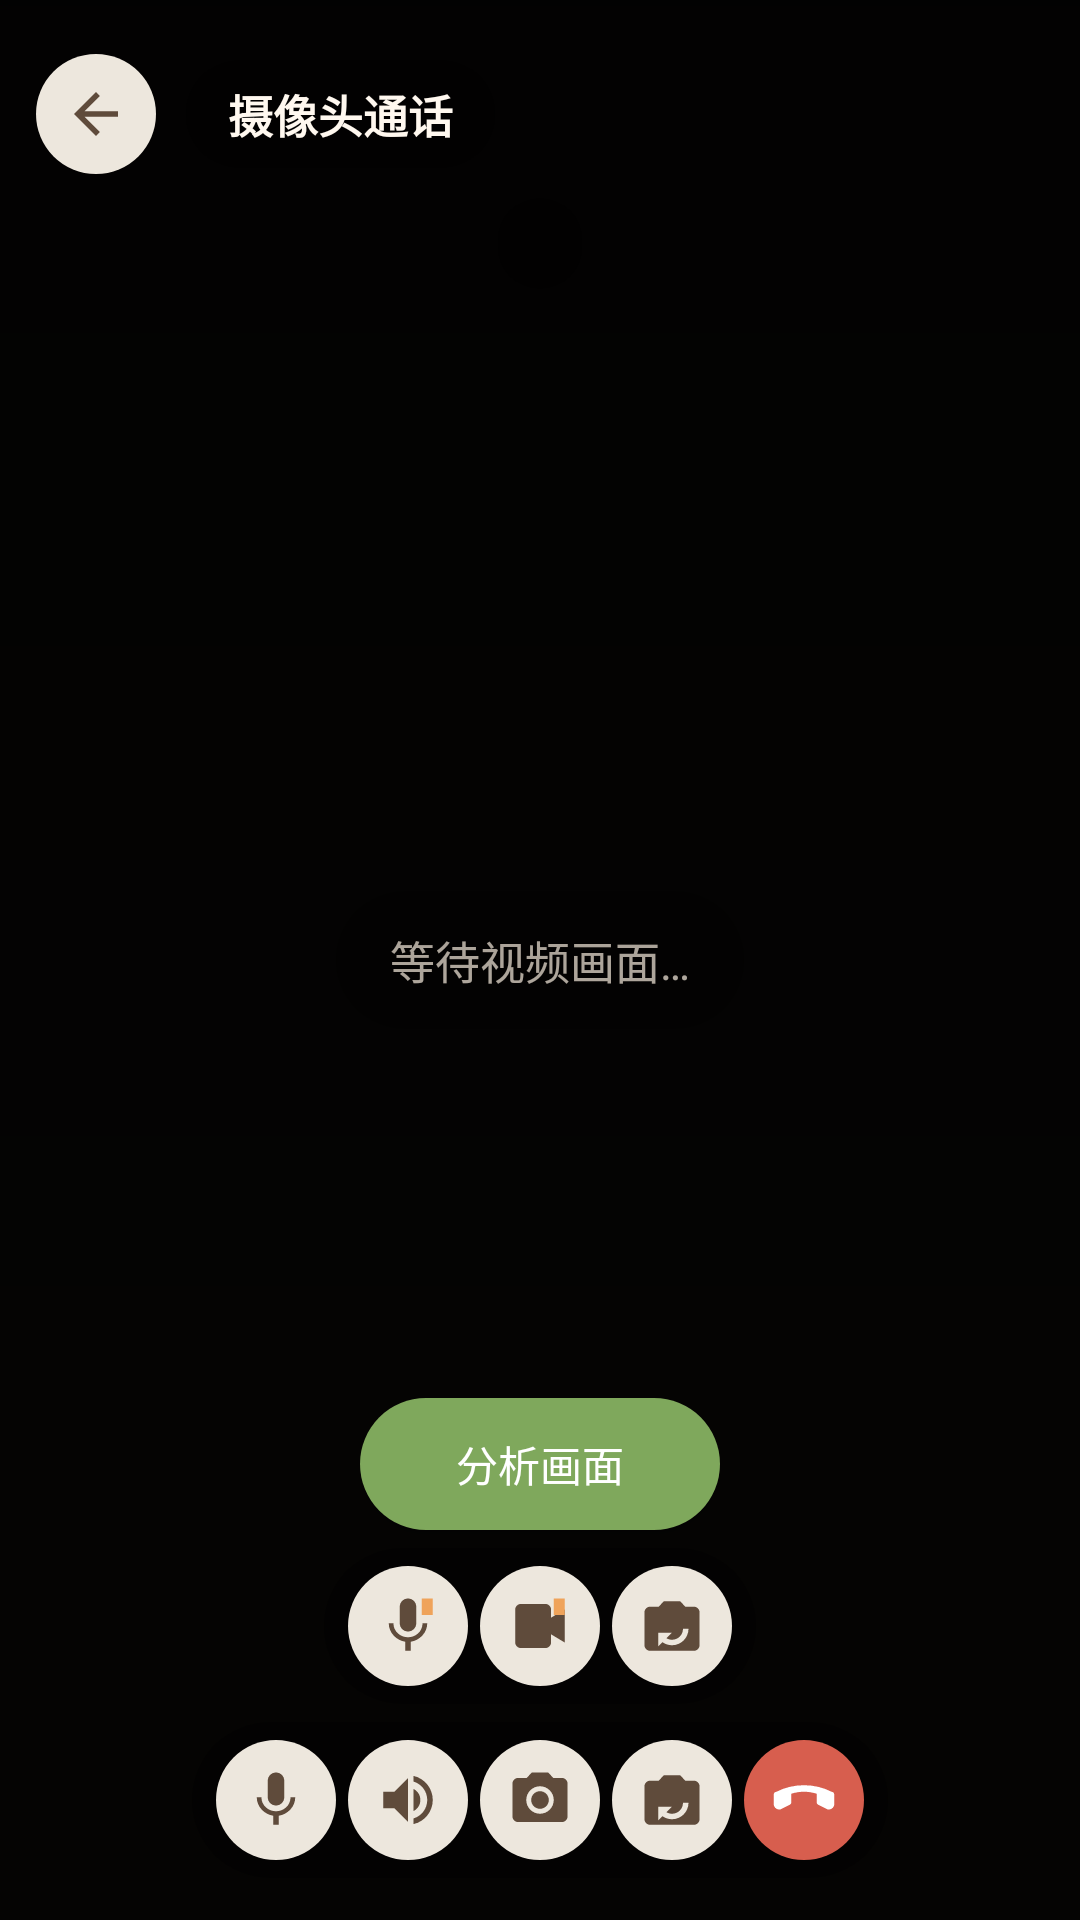

Icons on this 1080*1920 Android screen, each with its box as (x1, y1, x2, y2):
切换本机摄像头: (612, 1740, 732, 1860)
切换被控端摄像头: (612, 1566, 732, 1686)
开关本机喇叭: (348, 1740, 468, 1860)
开关本机摄像头: (480, 1740, 600, 1860)
开关本机麦克风: (216, 1740, 336, 1860)
开关被控端摄像头: (480, 1566, 600, 1686)
开关被控端麦克风: (348, 1566, 468, 1686)
挂断通话: (744, 1740, 864, 1860)
返回: (36, 54, 156, 174)
